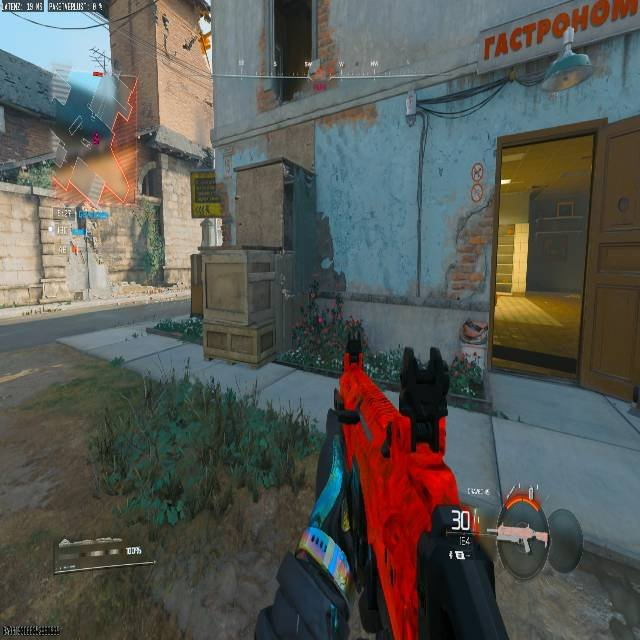player: (84, 229, 96, 252)
